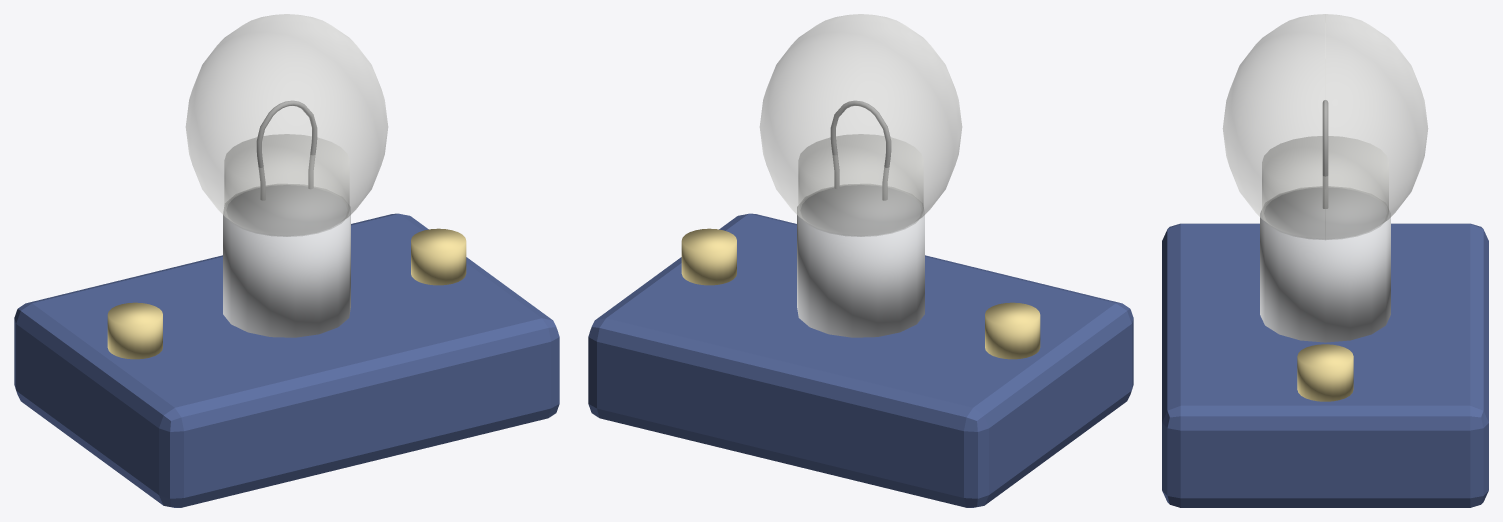
The model's file is bulb_holder.glb.
3 views of the same model, side by side, from view 1: azimuth 30°, elevation 25°; view 2: azimuth 150°, elevation 25°; view 3: azimuth 270°, elevation 25° (orthographic).
Visible parts, largest first — view 1: bulb_holder, bulb_glass, bulb_socket, bulb_neck, bulb_screw1, bulb_screw0, bulb_filament; view 2: bulb_holder, bulb_glass, bulb_socket, bulb_neck, bulb_screw1, bulb_screw0, bulb_filament; view 3: bulb_holder, bulb_glass, bulb_socket, bulb_neck, bulb_screw1, bulb_filament.
Part boxes in pixels (bbox=[...]): bulb_holder: bbox=[14, 213, 559, 507]; bulb_glass: bbox=[185, 14, 388, 235]; bulb_socket: bbox=[223, 184, 350, 337]; bulb_neck: bbox=[224, 134, 349, 236]; bulb_screw1: bbox=[411, 228, 466, 285]; bulb_screw0: bbox=[107, 302, 162, 359]; bulb_filament: bbox=[256, 100, 317, 200]; bulb_holder: bbox=[588, 213, 1133, 507]; bulb_glass: bbox=[759, 14, 962, 235]; bulb_socket: bbox=[797, 184, 924, 337]; bulb_neck: bbox=[798, 134, 923, 236]; bulb_screw1: bbox=[681, 228, 736, 285]; bulb_screw0: bbox=[985, 302, 1040, 359]; bulb_filament: bbox=[830, 100, 891, 200]; bulb_holder: bbox=[1162, 223, 1488, 507]; bulb_glass: bbox=[1222, 14, 1428, 238]; bulb_socket: bbox=[1260, 186, 1390, 342]; bulb_neck: bbox=[1262, 136, 1388, 239]; bulb_screw1: bbox=[1297, 344, 1353, 401]; bulb_filament: bbox=[1322, 100, 1328, 208].
Size of the model in its own units: 0.05 by 0.0466 by 0.035.
